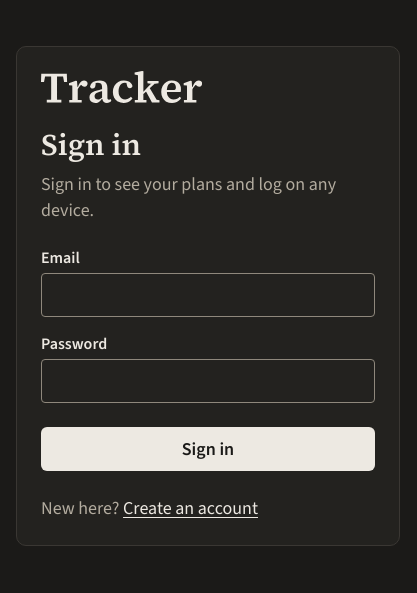
it: signing in › explains being offline
Type "correct horse battery" into the password field with id "login-password". click: point(208, 381)
box: [41, 359, 375, 403]
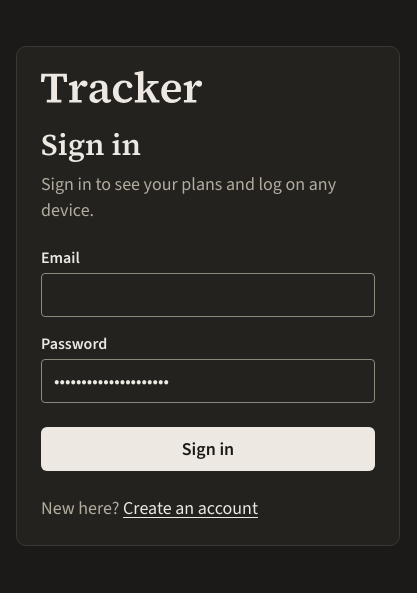
Submit the form, box [41, 247, 375, 471]
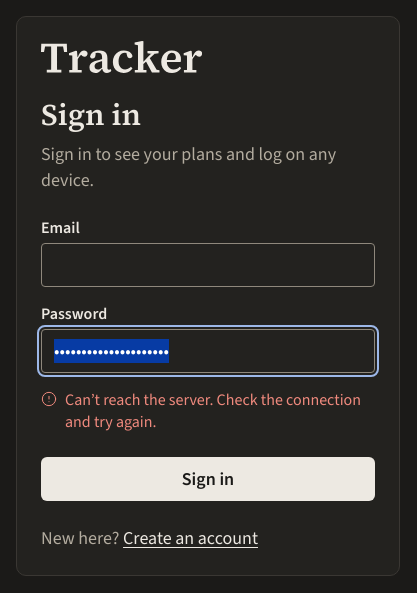
Expected: the message "Can’t reach the server. Check the connection and try again." is shown, [41, 389, 375, 433]
